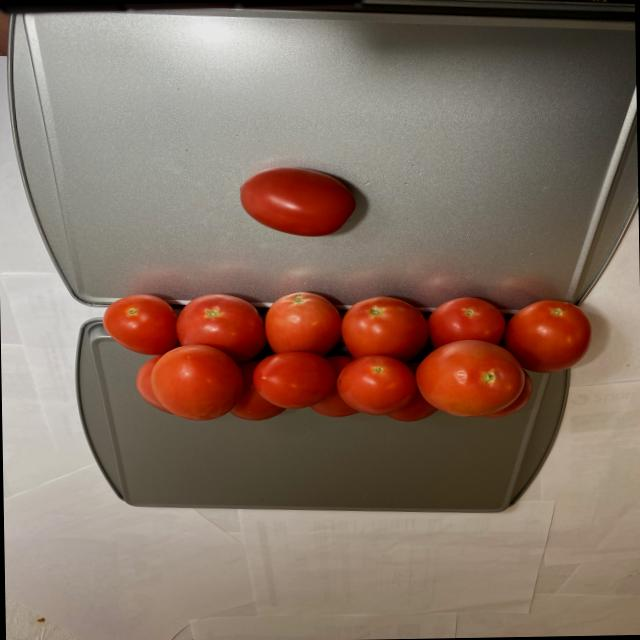tomato: (93, 286, 595, 426), (236, 163, 362, 240)
